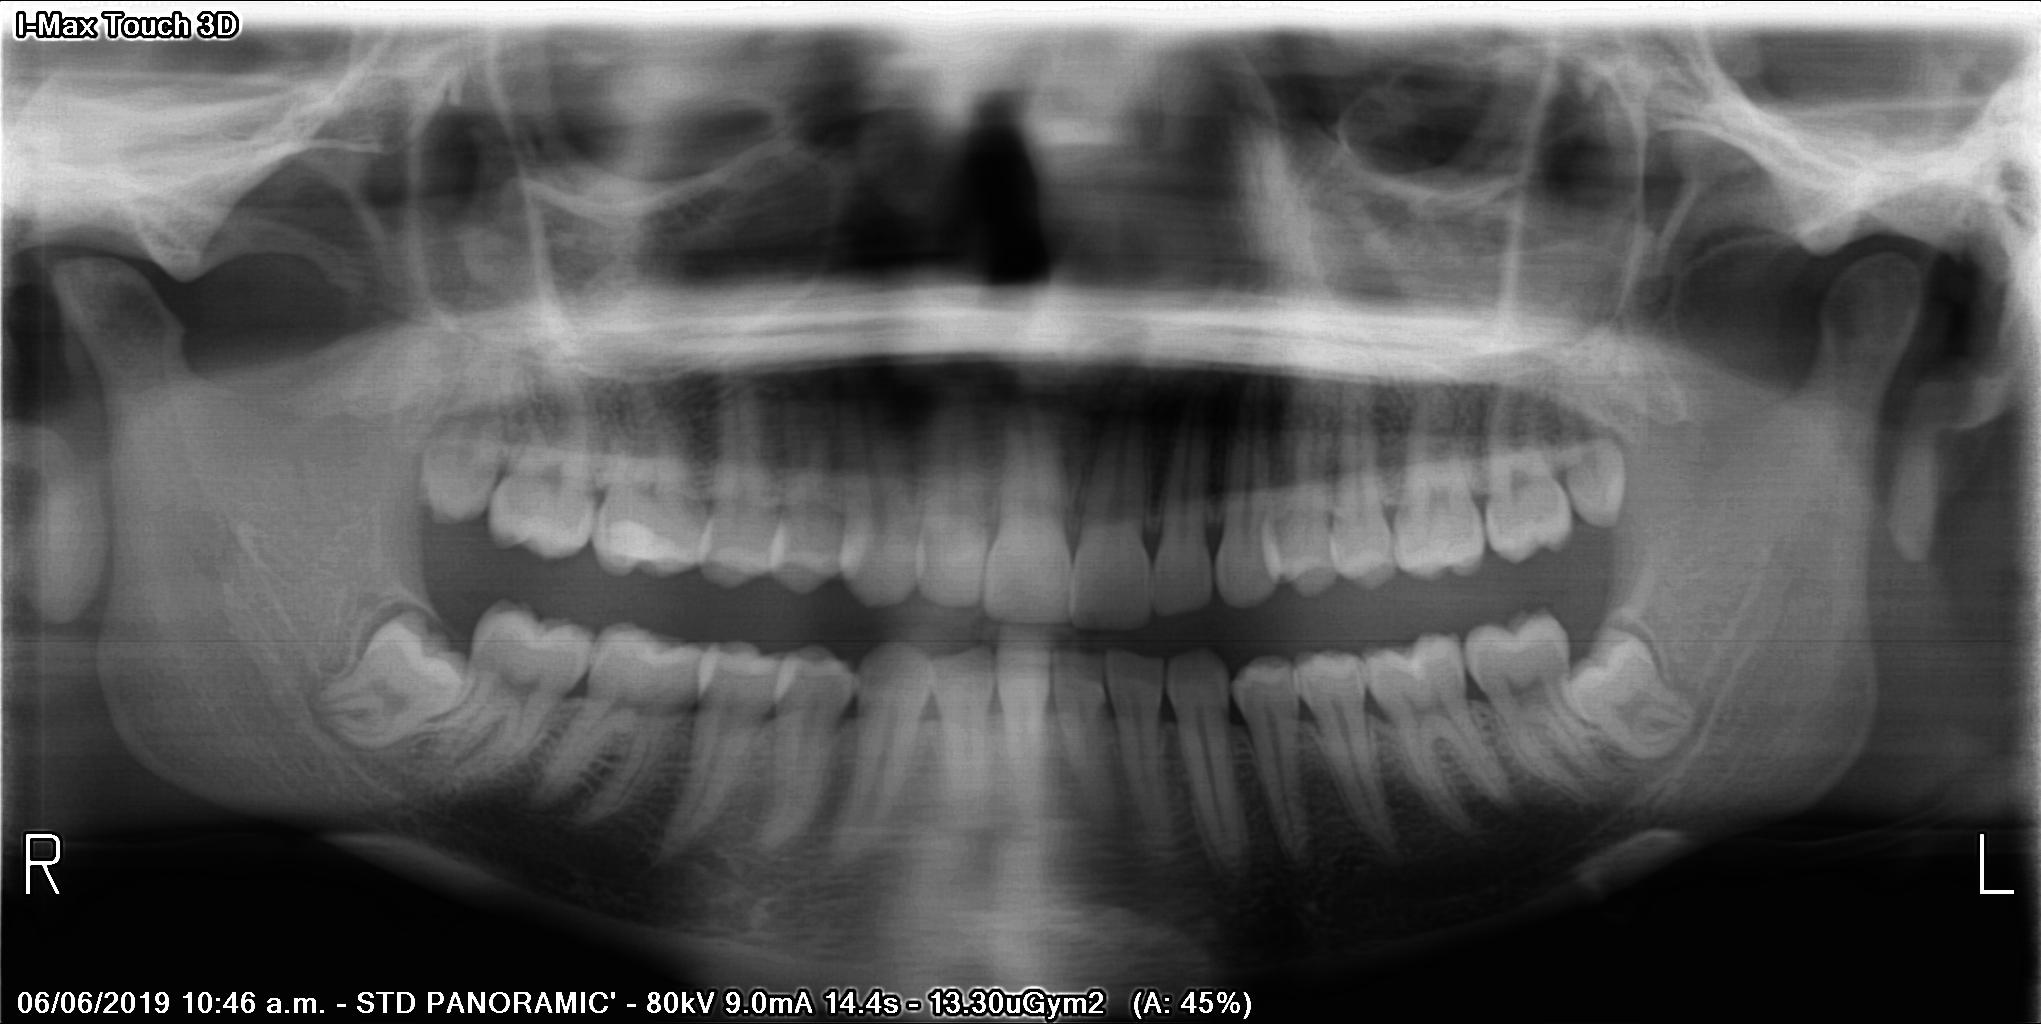Çürük: (602, 515, 684, 579)
